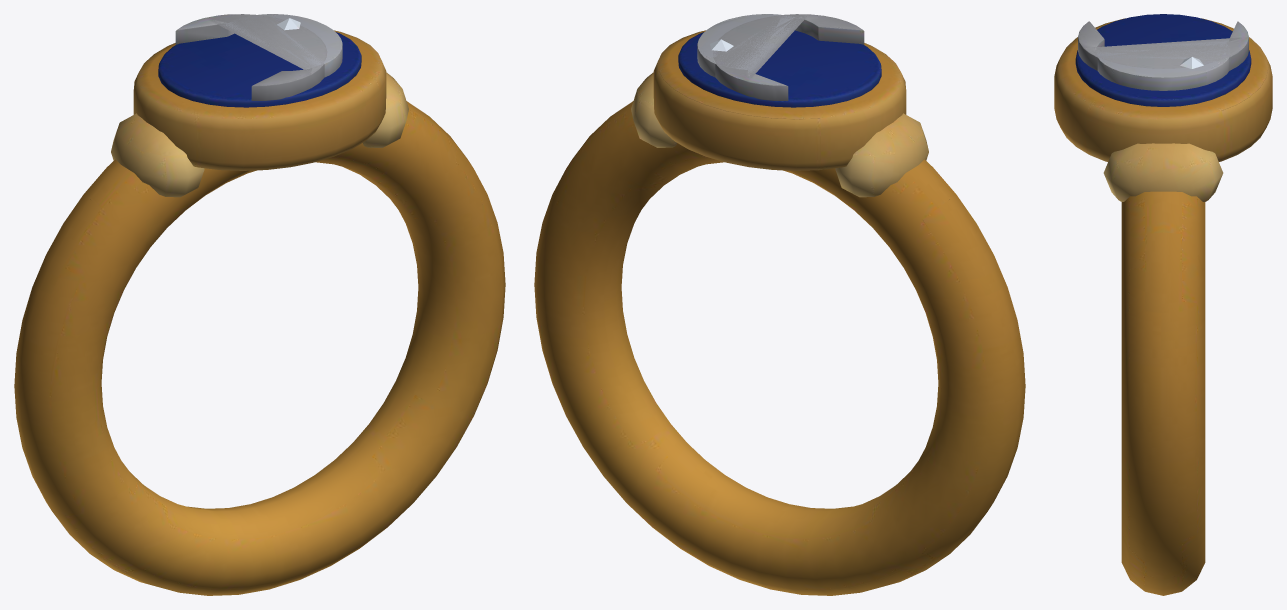
File: moon_signet.glb
The picture shows the model from 3 angles, left to right: view 1: azimuth 30°, elevation 25°; view 2: azimuth 150°, elevation 25°; view 3: azimuth 270°, elevation 25°; orthographic projection. The views are drawn at different scales.
Visible parts, largest first — view 1: moon_signet; view 2: moon_signet; view 3: moon_signet.
Boxes of the visible parts, x1,y1,x2,y2 form: moon_signet: [14, 14, 505, 595]; moon_signet: [534, 14, 1025, 595]; moon_signet: [1054, 14, 1272, 595].
Size of the model in its own units: 0.076 by 0.0828 by 0.0306.
1 material, 1 textured.
